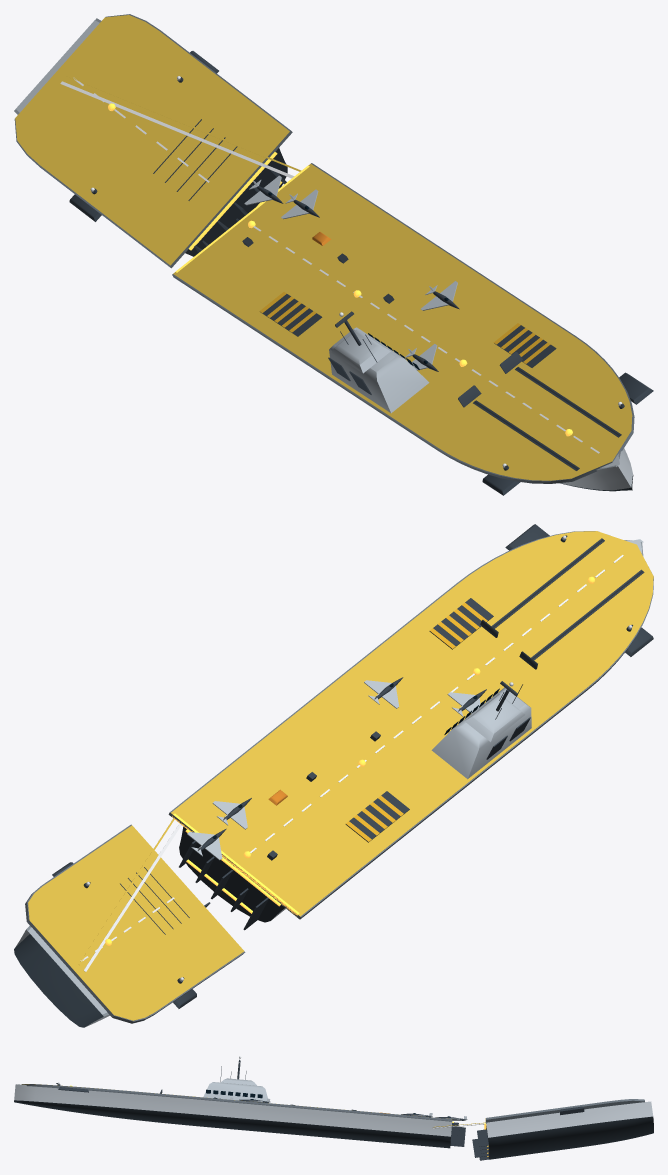
Rendered from wreck_carrier.glb.
3 renders of one model, top to bottom at view 1: azimuth 30°, elevation 25°; view 2: azimuth 150°, elevation 25°; view 3: azimuth 270°, elevation 25°, orthographic. The views are drawn at different scales.
Parts seen in each view (by area): view 1: deck_edge_main, deck_edge_aft, island, flight_deck_main, cap_aft_hi, flight_deck_aft, island_bridge, hull_main, elevator_aft, landing_strip, elevator_fwd, deck_plate_aft; view 2: deck_edge_main, deck_edge_aft, hull_under_aft, island, cap_main_lo, flight_deck_main, island_bridge, flight_deck_aft, elevator_aft, elevator_fwd, ribs_main_lo; view 3: hull_main, hull_under_main, hull_under_aft, hull_aft, flight_deck_main, island, flight_deck_aft, ribs_aft_hi, ribs_main_lo, island_win_port, island_bridge.
Boxes of the visible parts, x1,y1,x2,y2 form: deck_edge_main: [173, 163, 632, 480]; deck_edge_aft: [15, 15, 289, 265]; island: [329, 327, 429, 413]; flight_deck_main: [172, 163, 634, 483]; cap_aft_hi: [185, 148, 287, 256]; flight_deck_aft: [14, 14, 292, 268]; island_bridge: [331, 330, 390, 373]; hull_main: [560, 448, 632, 490]; elevator_aft: [260, 294, 322, 336]; landing_strip: [60, 81, 294, 178]; elevator_fwd: [494, 325, 556, 367]; deck_plate_aft: [16, 20, 99, 112]; deck_edge_main: [171, 531, 653, 916]; deck_edge_aft: [28, 825, 244, 1020]; hull_under_aft: [14, 934, 103, 1027]; island: [431, 687, 531, 779]; cap_main_lo: [179, 826, 284, 922]; flight_deck_main: [168, 531, 653, 919]; island_bridge: [464, 694, 524, 741]; flight_deck_aft: [25, 824, 245, 1023]; elevator_aft: [345, 791, 409, 842]; elevator_fwd: [429, 598, 493, 649]; ribs_main_lo: [179, 840, 268, 930]; hull_main: [14, 1084, 452, 1136]; hull_under_main: [14, 1100, 450, 1148]; hull_under_aft: [488, 1116, 653, 1159]; hull_aft: [486, 1101, 653, 1137]; flight_deck_main: [22, 1084, 452, 1121]; island: [203, 1082, 267, 1101]; flight_deck_aft: [486, 1099, 644, 1122]; ribs_aft_hi: [472, 1129, 488, 1160]; ribs_main_lo: [450, 1122, 465, 1146]; island_win_port: [206, 1089, 262, 1098]; island_bridge: [220, 1078, 256, 1085].
Size of the model in its own units: 9.36 by 7.38 by 51.81.
